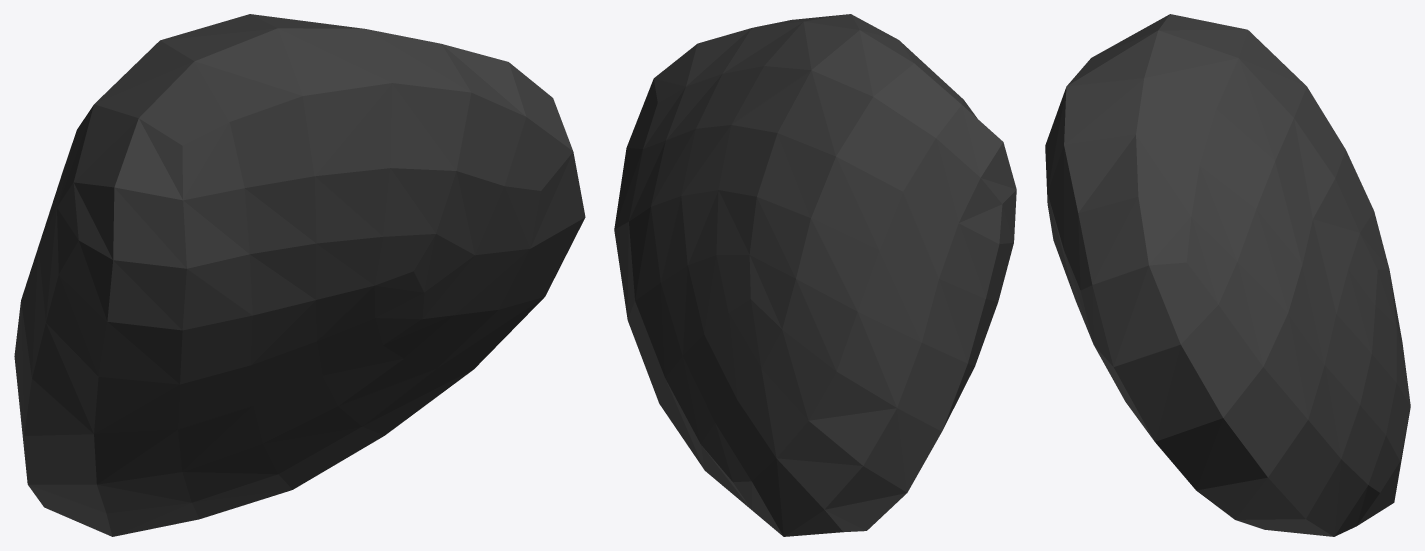
File: LFL_olceranon.glb
3 views of the same model, side by side, from view 1: azimuth 30°, elevation 25°; view 2: azimuth 150°, elevation 25°; view 3: azimuth 270°, elevation 25° (orthographic). The views are drawn at different scales.
Visible parts, largest first — view 1: LFL_olceranon; view 2: LFL_olceranon; view 3: LFL_olceranon.
Part boxes in pixels (x1,y1,x2,y2): LFL_olceranon: (14,14,585,536); LFL_olceranon: (614,14,1016,536); LFL_olceranon: (1045,14,1410,536).
Size of the model in its own units: 4.97 by 5.46 by 3.62.
Materials: 1 (1 with a texture image).
